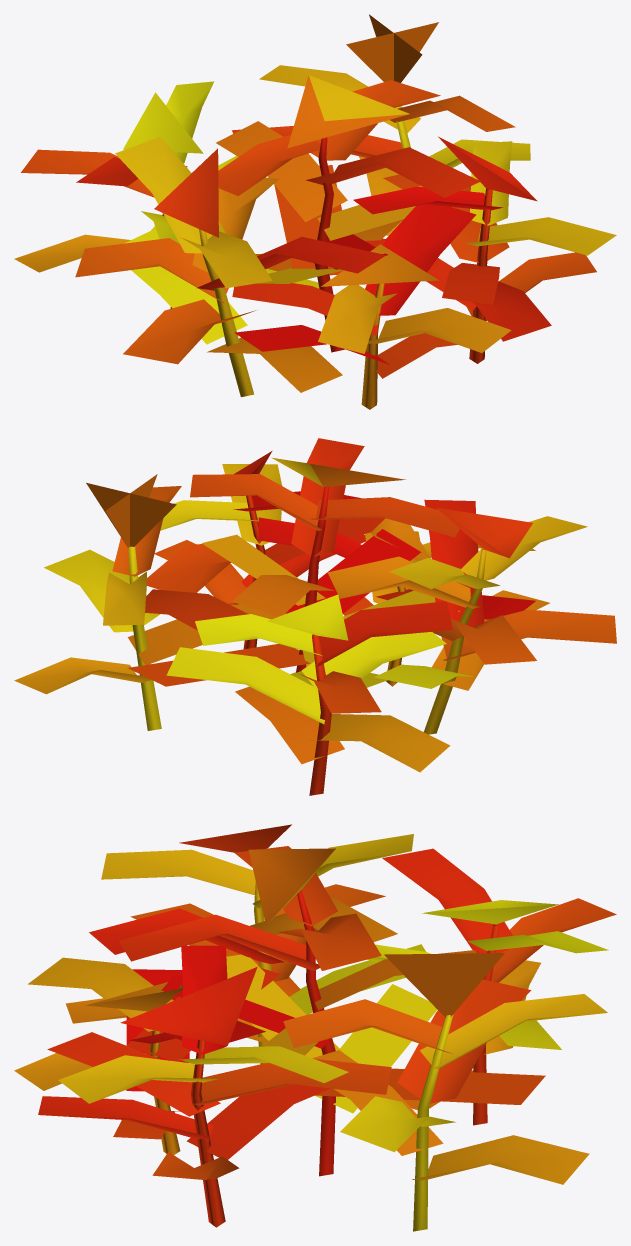
File: G_Setcreasea_001_S1.FBX
3 views of the same model, one above another, from view 1: azimuth 30°, elevation 25°; view 2: azimuth 150°, elevation 25°; view 3: azimuth 270°, elevation 25° (orthographic). The views are drawn at different scales.
Parts seen in each view (by area): view 1: G_Setcreasea_001_S1_P01_LOD0; view 2: G_Setcreasea_001_S1_P01_LOD0; view 3: G_Setcreasea_001_S1_P01_LOD0.
Boxes of the visible parts, x1,y1,x2,y2 form: G_Setcreasea_001_S1_P01_LOD0: (14, 14, 616, 409); G_Setcreasea_001_S1_P01_LOD0: (14, 438, 616, 795); G_Setcreasea_001_S1_P01_LOD0: (14, 824, 616, 1231).
Size of what is drawn, in the model's own units: 145 by 76.81 by 134.
